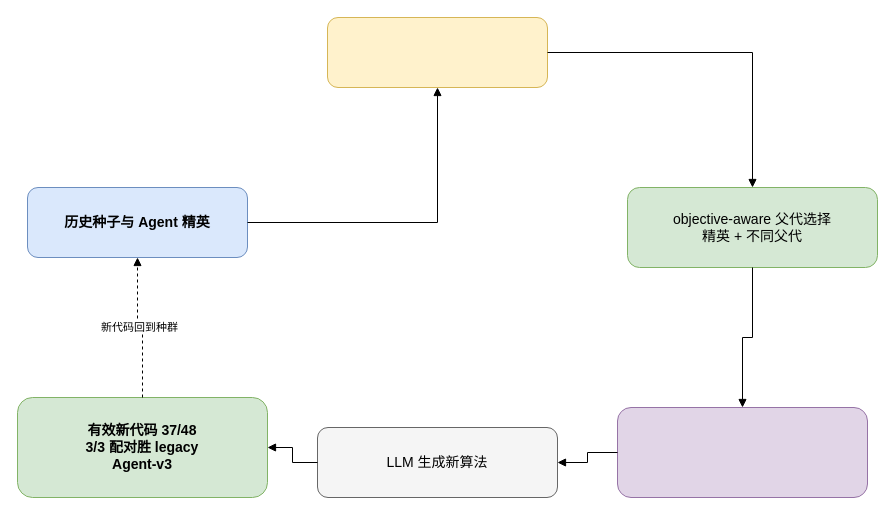
This 895x515 diagram has some shape labels left out. The centre of each missing label's shape, as x and y in pixels:
"dev evaluator 给出 objective" goes at pixel 437 52.
"算子提示 显示 objective 保留有效结构" goes at pixel 742 452.
